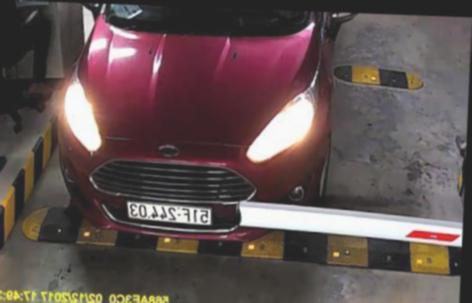License_Plate: (125, 199, 215, 225)
